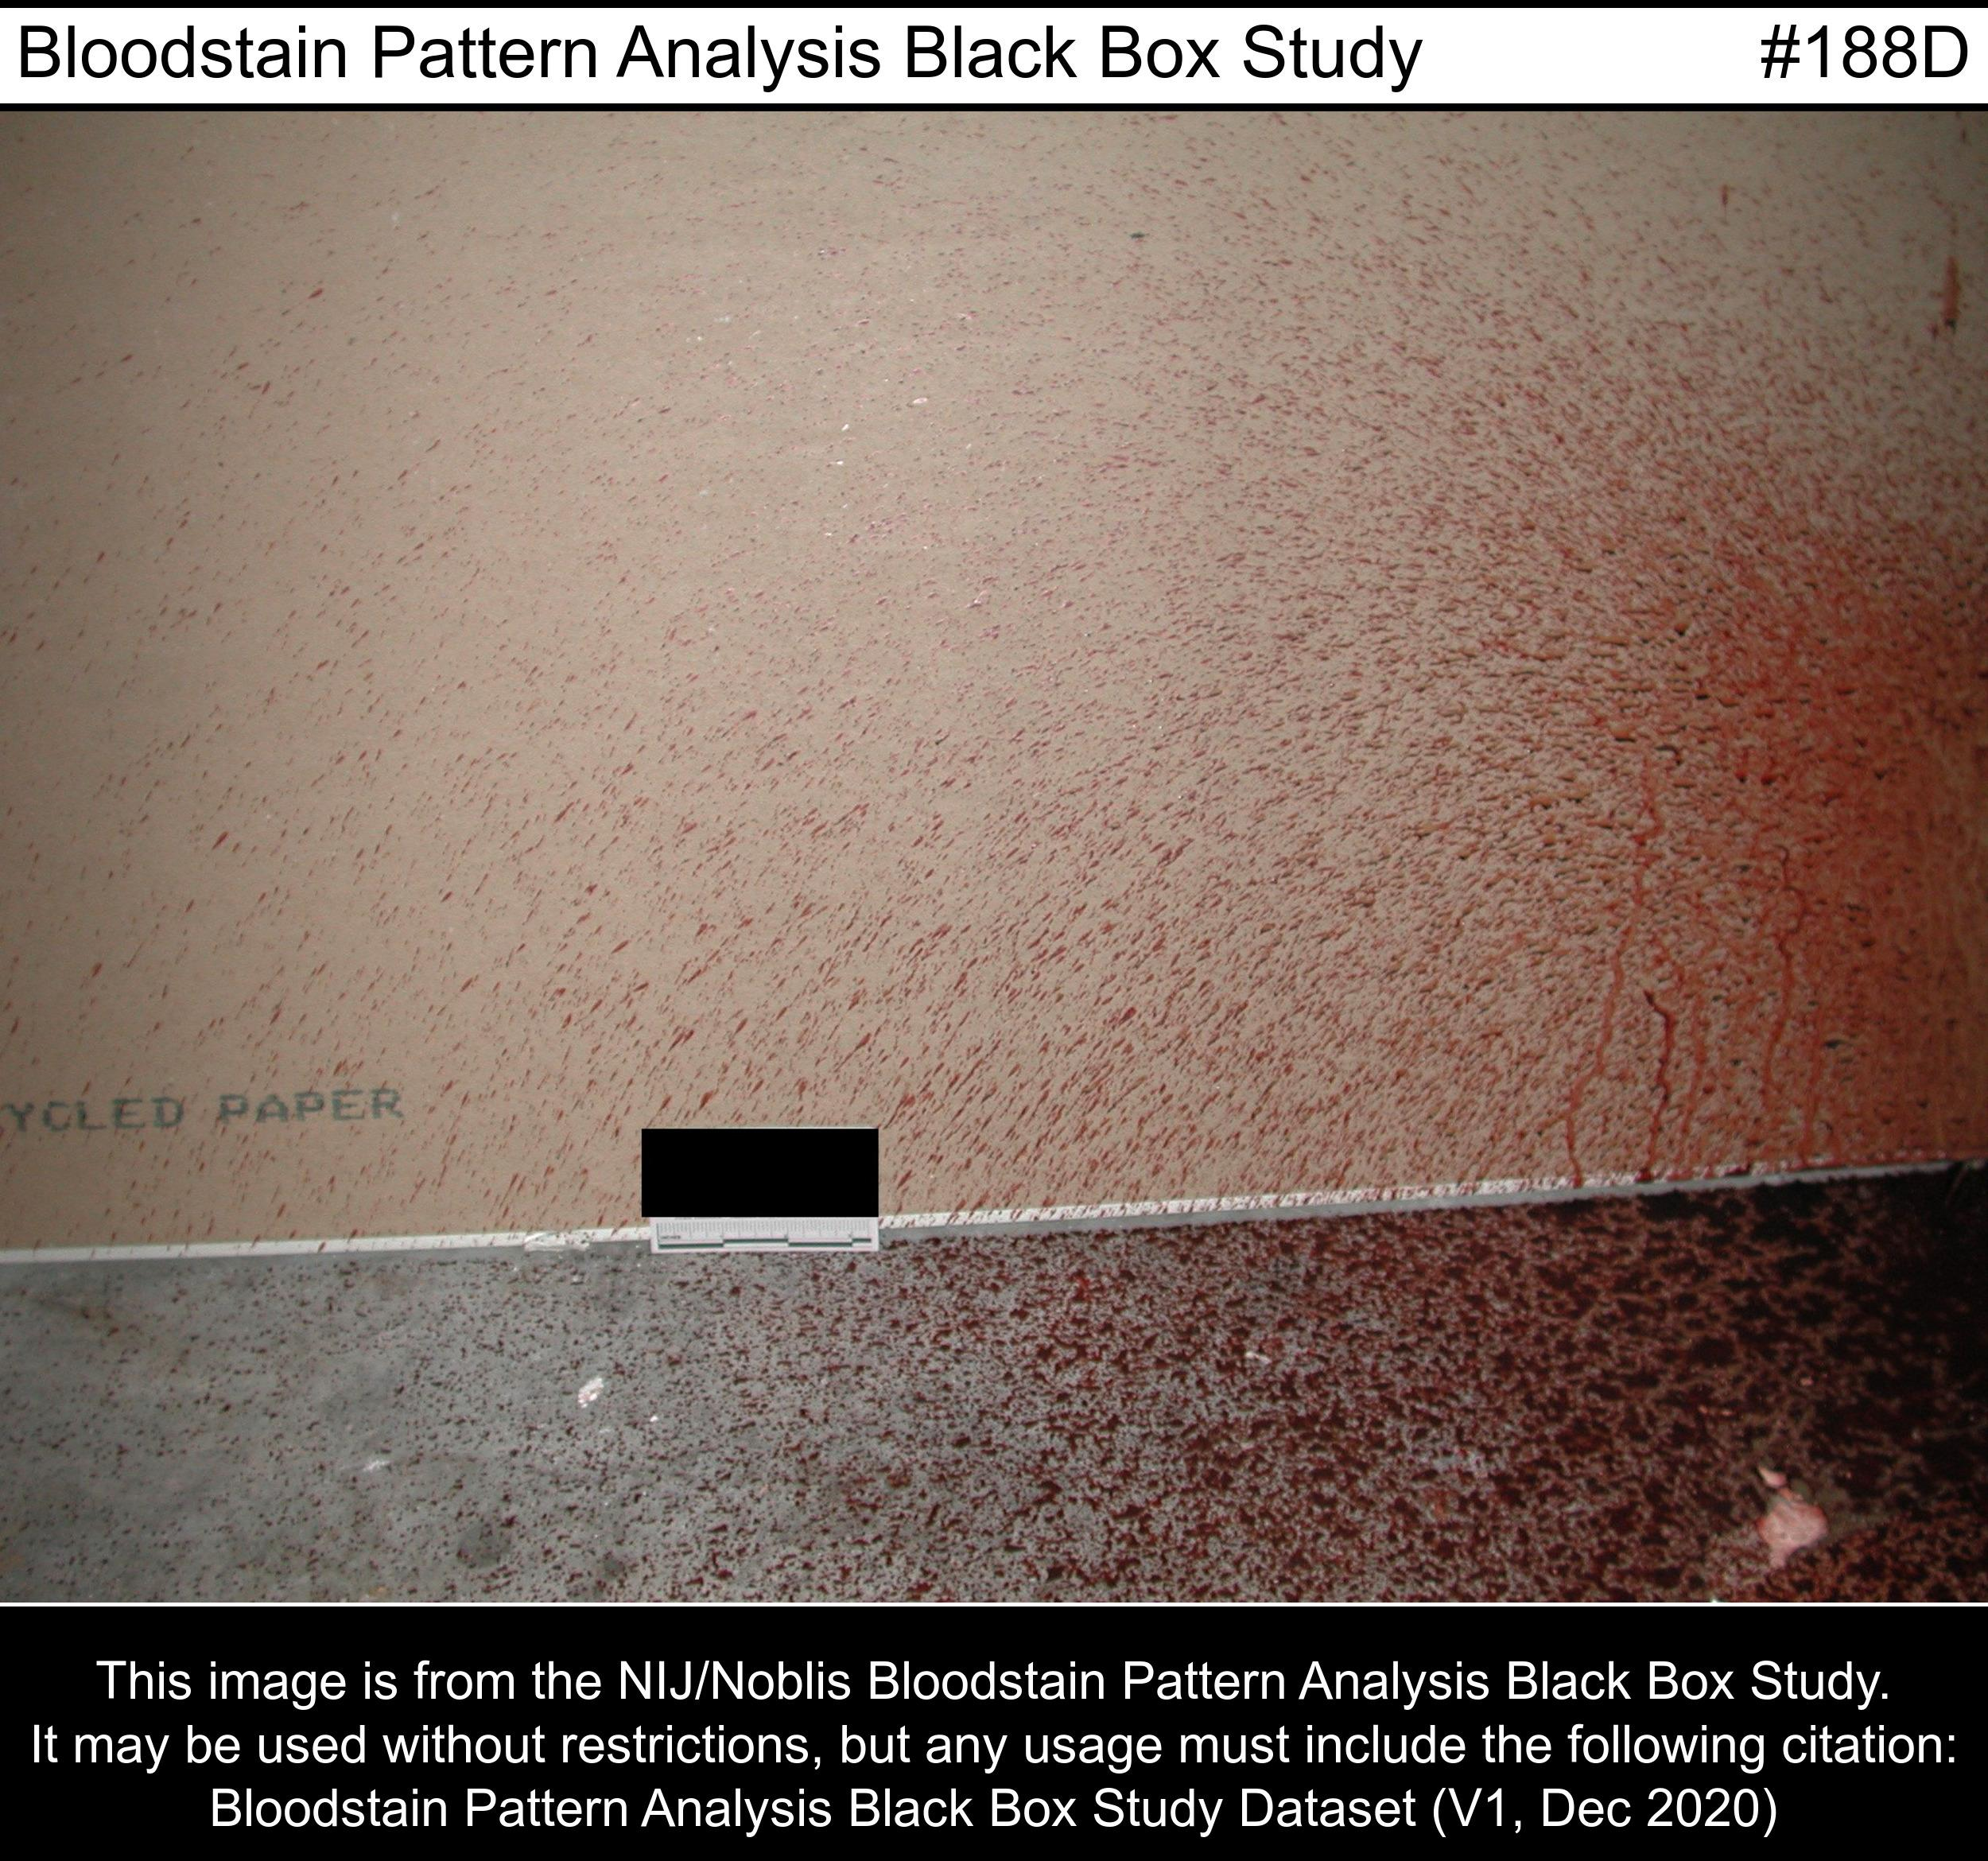Impact: (1227, 381, 1969, 1151)
Passive: (1213, 1249, 1950, 1569)
